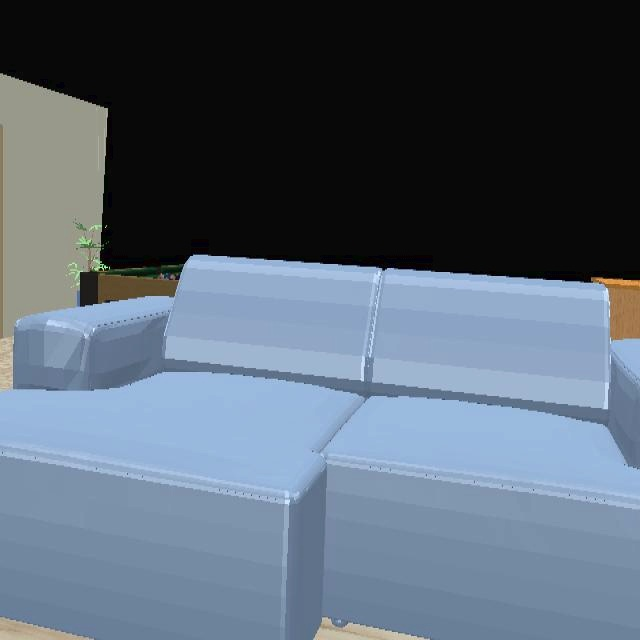sofa: (0, 255, 640, 640)
